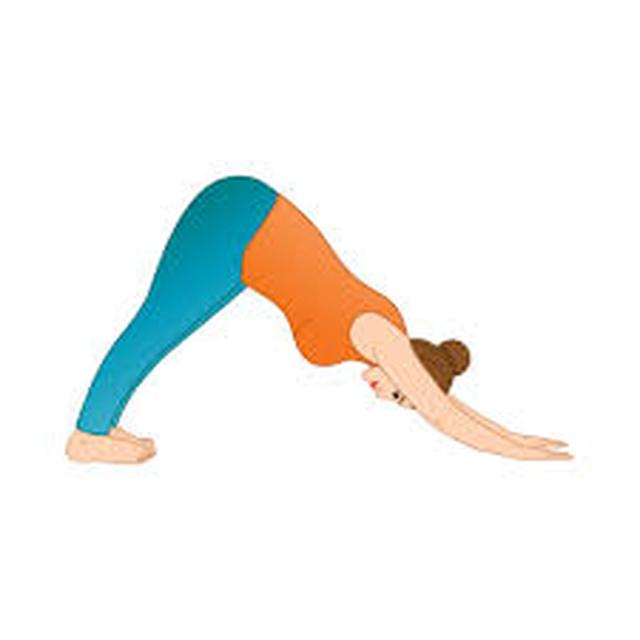Downward-Facing_Dog: (58, 169, 583, 471)
